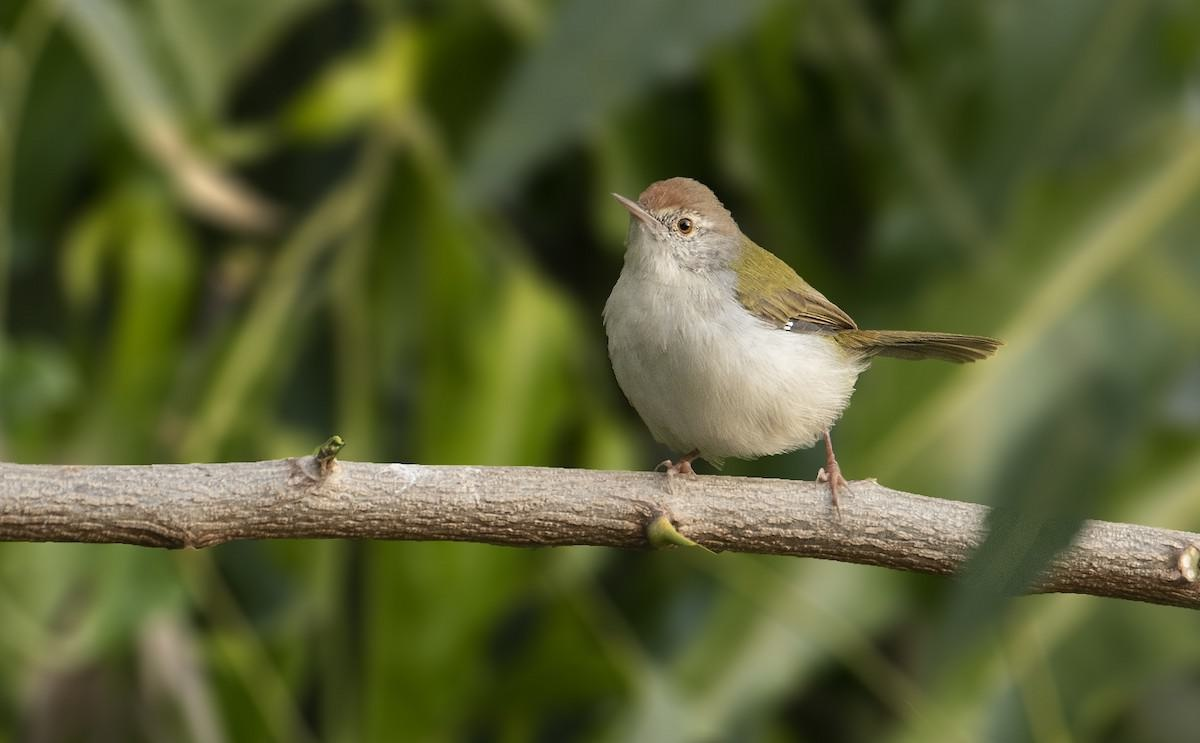tailorbird: (576, 148, 1018, 519)
